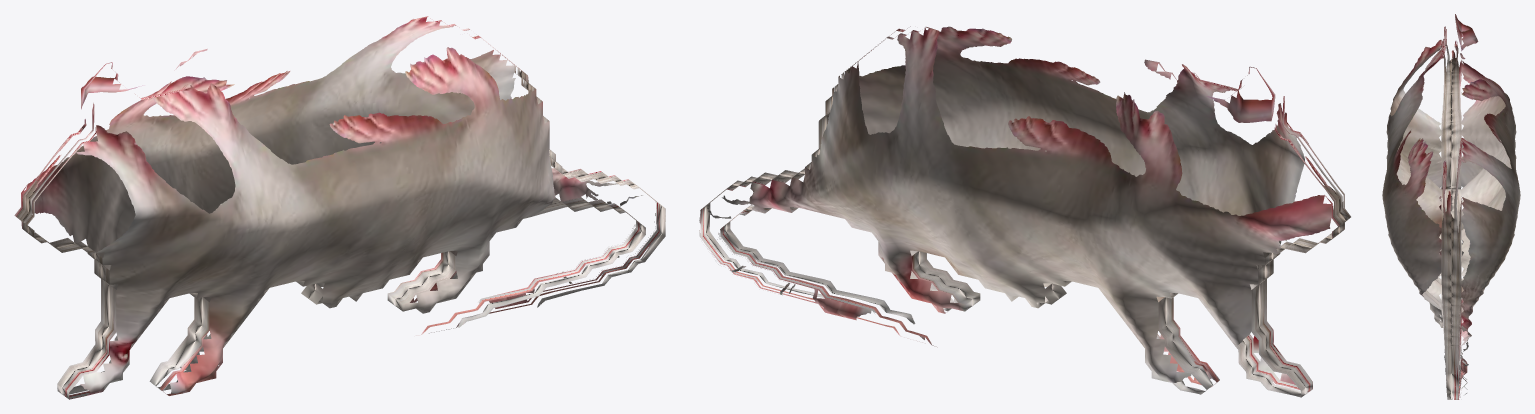
The model's file is rat.glb.
3 renders of one model, left to right at view 1: azimuth 30°, elevation 25°; view 2: azimuth 150°, elevation 25°; view 3: azimuth 270°, elevation 25°, orthographic. The views are drawn at different scales.
Visible parts, largest first — view 1: reconstruction_artistique_non_anatomique_rat; view 2: reconstruction_artistique_non_anatomique_rat; view 3: reconstruction_artistique_non_anatomique_rat.
Part boxes in pixels (x1,y1,x2,y2): reconstruction_artistique_non_anatomique_rat: (14,16,665,399); reconstruction_artistique_non_anatomique_rat: (699,26,1350,397); reconstruction_artistique_non_anatomique_rat: (1382,14,1520,399).
Size of the model in its own units: 3.7 by 2.06 by 1.05.
1 material, 1 textured.
